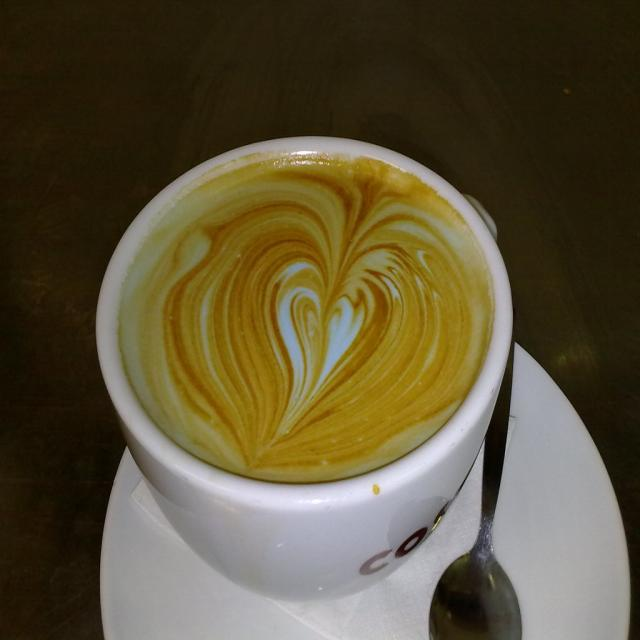latte: (96, 133, 513, 499)
